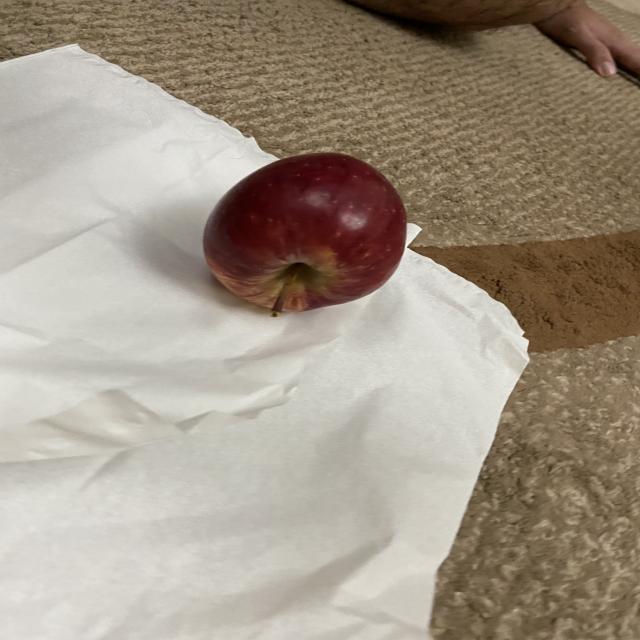apple: (202, 152, 408, 326)
